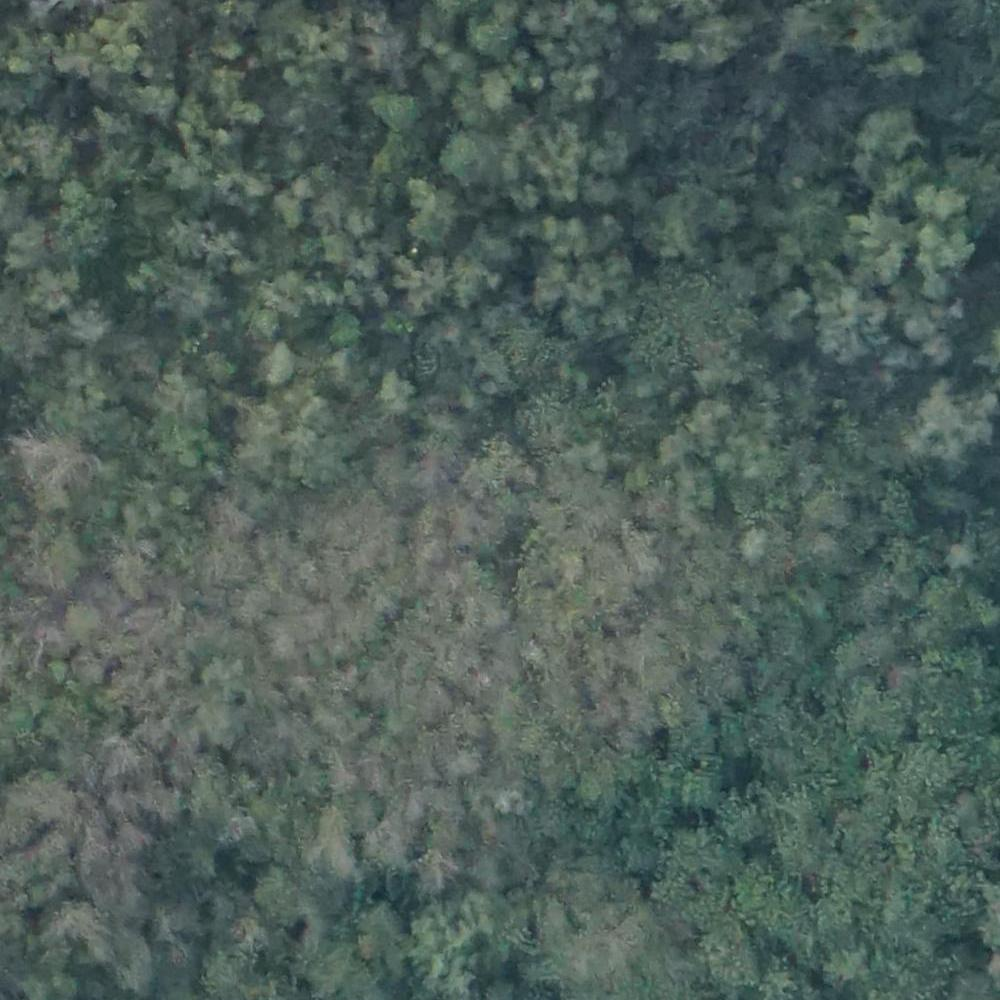tree: (915, 382, 996, 472), (807, 276, 892, 357), (661, 174, 735, 258), (46, 181, 120, 254), (854, 111, 928, 179), (847, 212, 909, 285), (846, 676, 908, 748), (856, 6, 923, 64), (407, 187, 470, 242), (23, 440, 78, 500), (459, 64, 513, 122), (101, 11, 152, 70), (443, 134, 494, 192), (172, 220, 230, 271), (486, 428, 535, 486), (18, 121, 69, 176), (783, 8, 828, 68), (883, 537, 932, 591), (470, 9, 525, 57), (706, 922, 752, 979), (165, 412, 211, 466), (446, 254, 497, 302), (61, 294, 108, 344), (455, 655, 501, 699), (676, 768, 722, 811), (551, 211, 595, 254), (205, 233, 249, 274), (201, 699, 238, 746), (883, 487, 924, 529), (568, 267, 615, 303), (374, 88, 424, 121), (690, 400, 730, 437), (378, 370, 411, 410), (266, 339, 294, 385), (278, 268, 305, 311), (740, 530, 769, 563)
